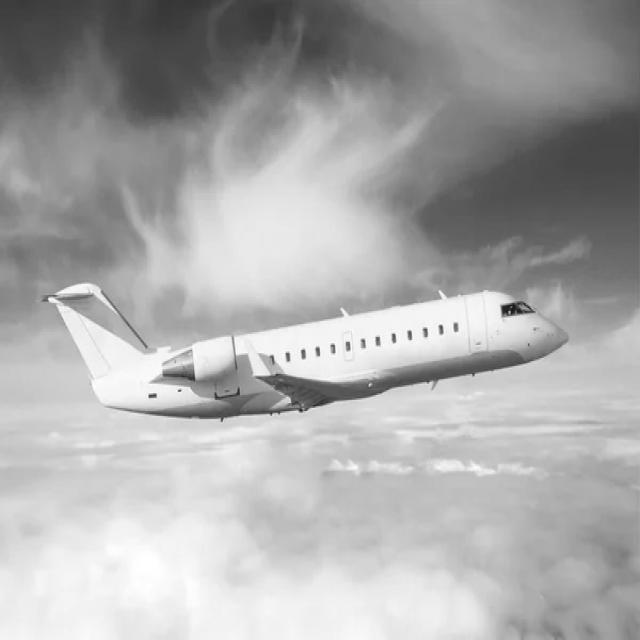Aircraft: (43, 273, 574, 418)
